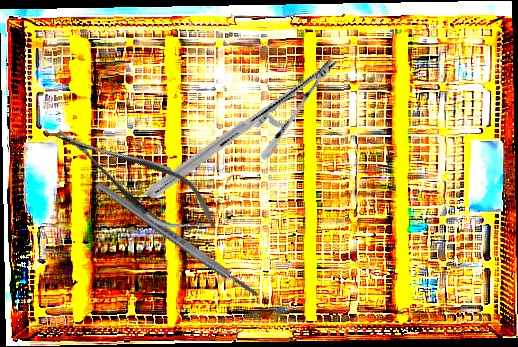Micro Scissor: (43, 105, 231, 253)
Needle Holder: (142, 11, 341, 246)
Scalpel Handle: (93, 178, 262, 301)
